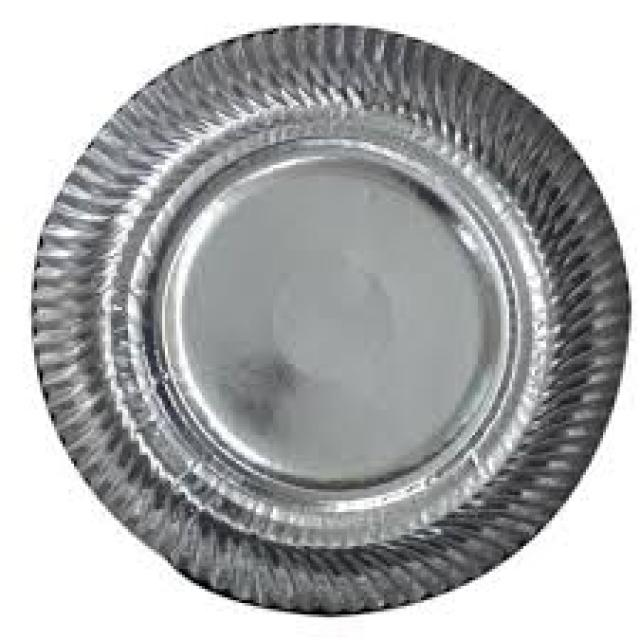kim_loai: (37, 28, 631, 613)
